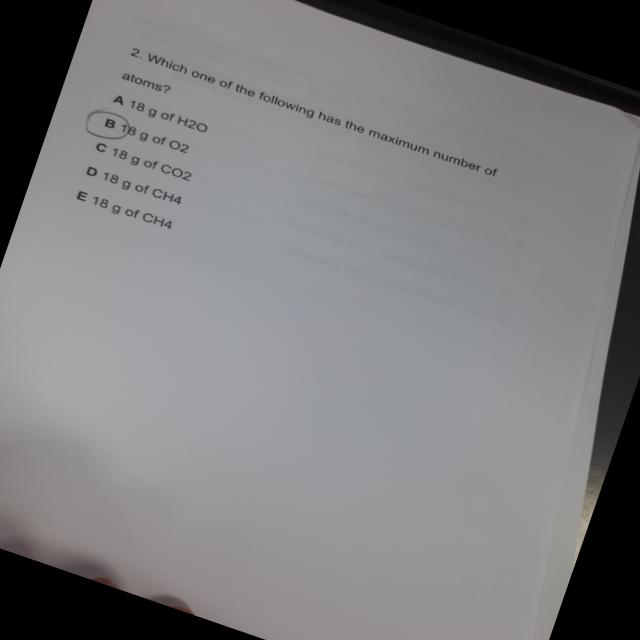B: (78, 102, 136, 148)
